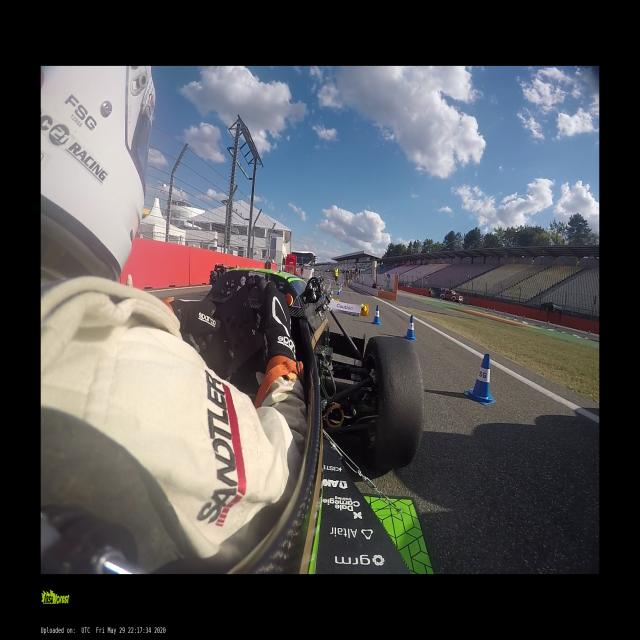blue_cone: (467, 353, 495, 404), (405, 314, 417, 342), (372, 305, 382, 326), (330, 288, 333, 299), (338, 287, 340, 295)
yellow_cone: (360, 303, 370, 316), (330, 298, 340, 308)
